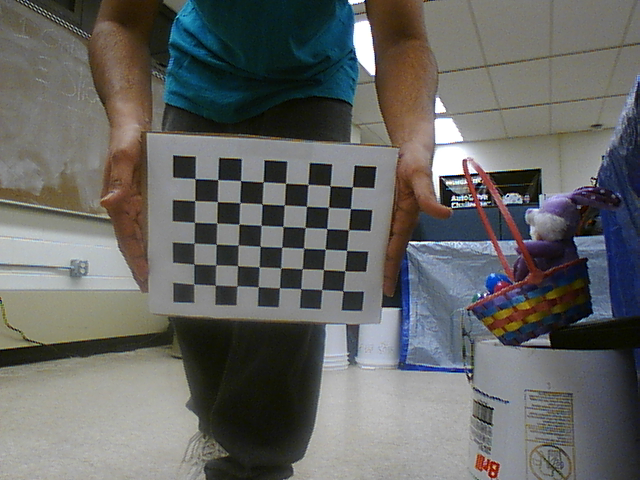bunny: (455, 154, 610, 350)
